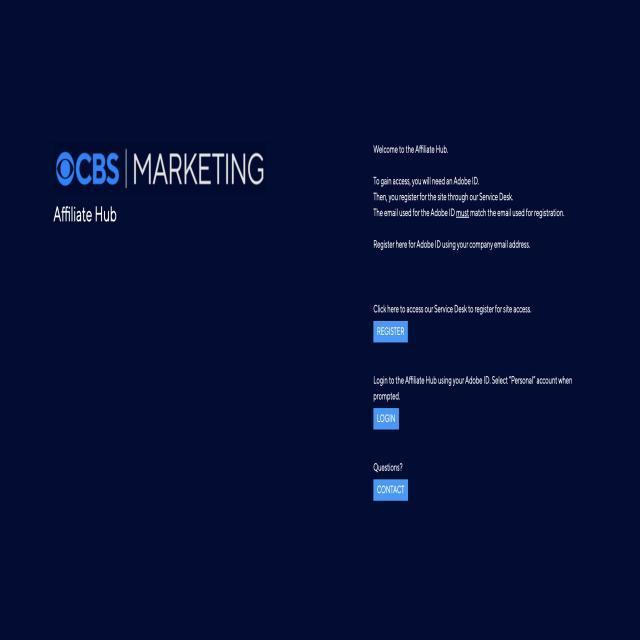Logo: (43, 138, 282, 238)
